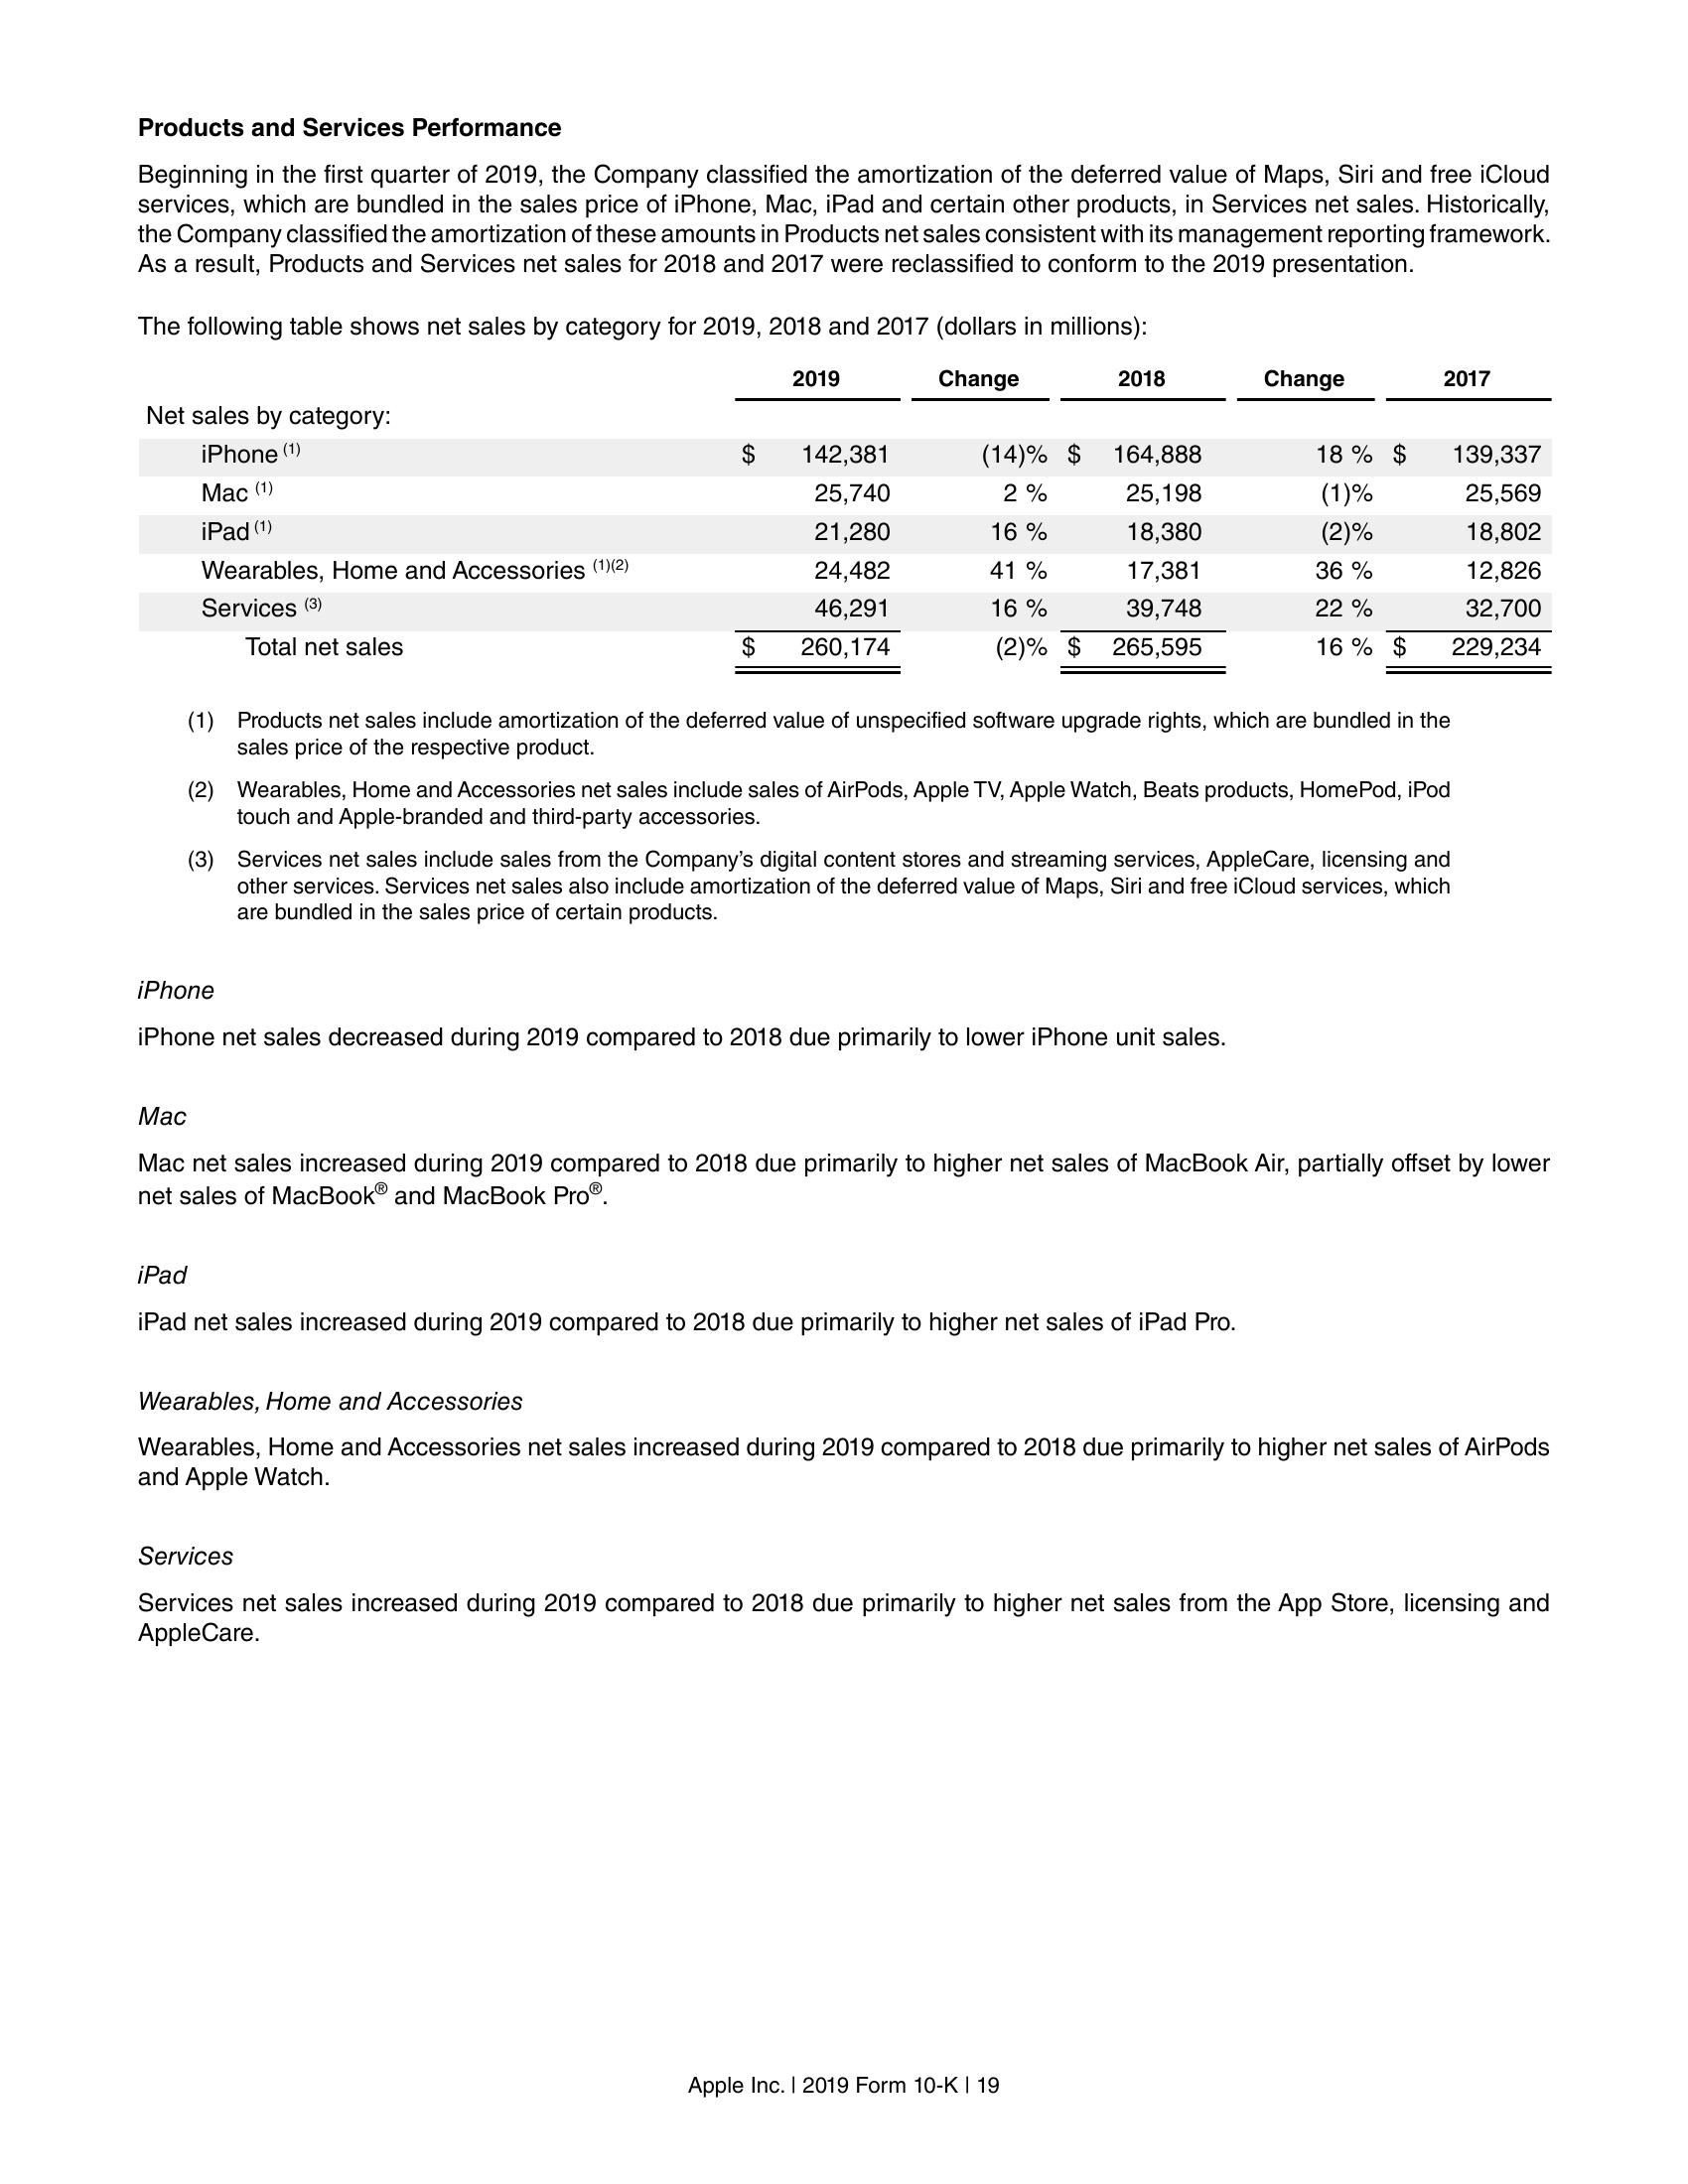table: (145, 365, 1560, 684)
